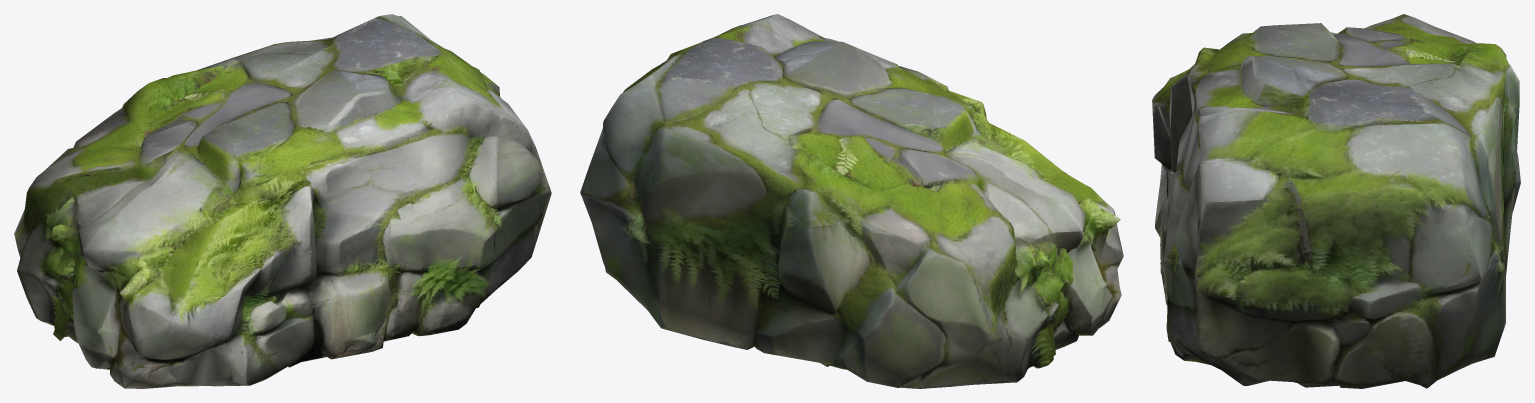
The model's file is rock_mossy_12.glb.
The picture shows the model from 3 angles, left to right: view 1: azimuth 30°, elevation 25°; view 2: azimuth 150°, elevation 25°; view 3: azimuth 270°, elevation 25°; orthographic projection. The views are drawn at different scales.
Visible parts, largest first — view 1: mossy_green_rock12_LOW_RES; view 2: mossy_green_rock12_LOW_RES; view 3: mossy_green_rock12_LOW_RES.
Part boxes in pixels (bbox=[...]): mossy_green_rock12_LOW_RES: bbox=[14, 14, 551, 388]; mossy_green_rock12_LOW_RES: bbox=[580, 14, 1123, 388]; mossy_green_rock12_LOW_RES: bbox=[1152, 14, 1520, 388].
Size of the model in its own units: 0.9995 by 0.4961 by 0.6304.
1 material, 1 textured.
